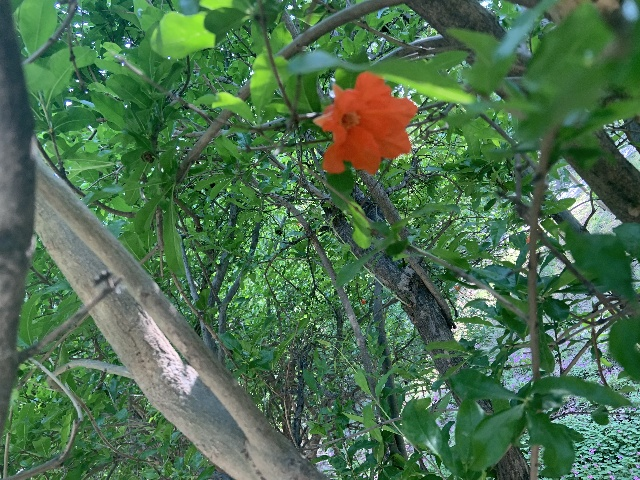flower: (313, 71, 418, 175), (453, 286, 460, 290), (361, 299, 366, 304)
